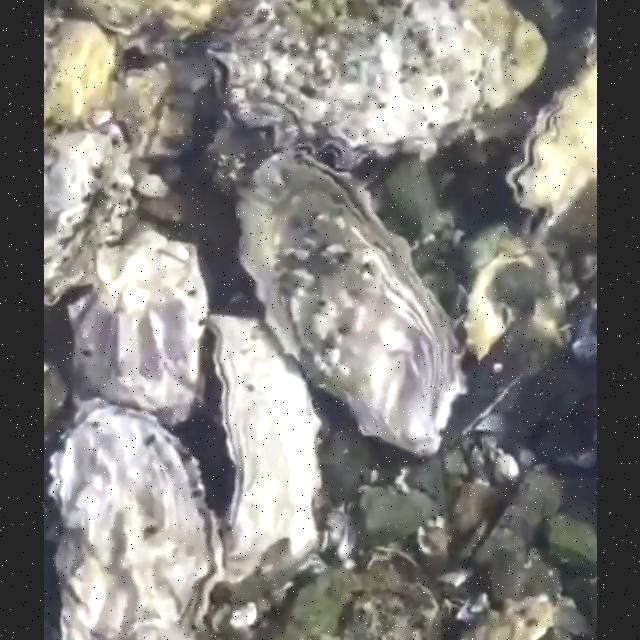Oyster-Closed: (198, 316, 322, 590), (68, 230, 210, 432), (44, 128, 136, 314), (42, 24, 118, 132)
Oyster-Open: (235, 150, 468, 460), (207, 0, 548, 176), (48, 398, 228, 640), (504, 65, 596, 252)
